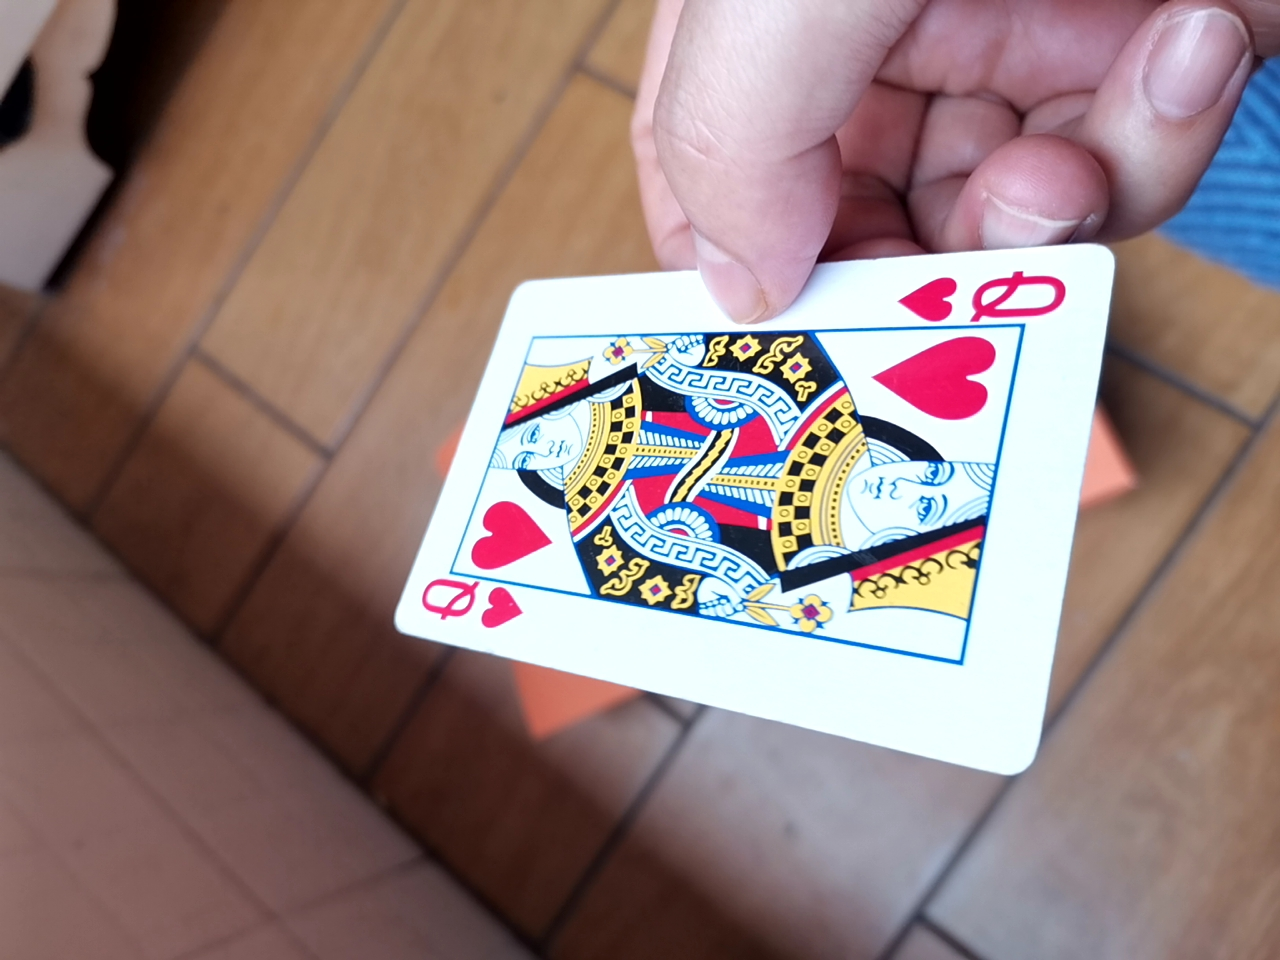hx q: (371, 248, 1119, 779)
